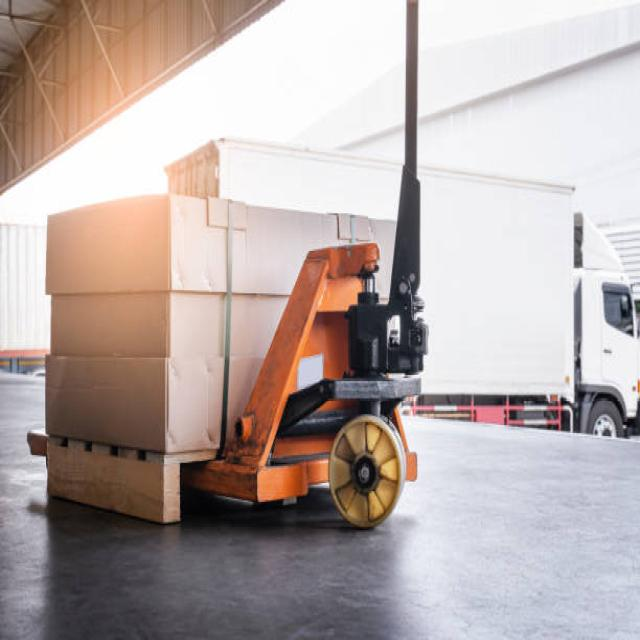Wooden-Pallets: (34, 434, 217, 533)
